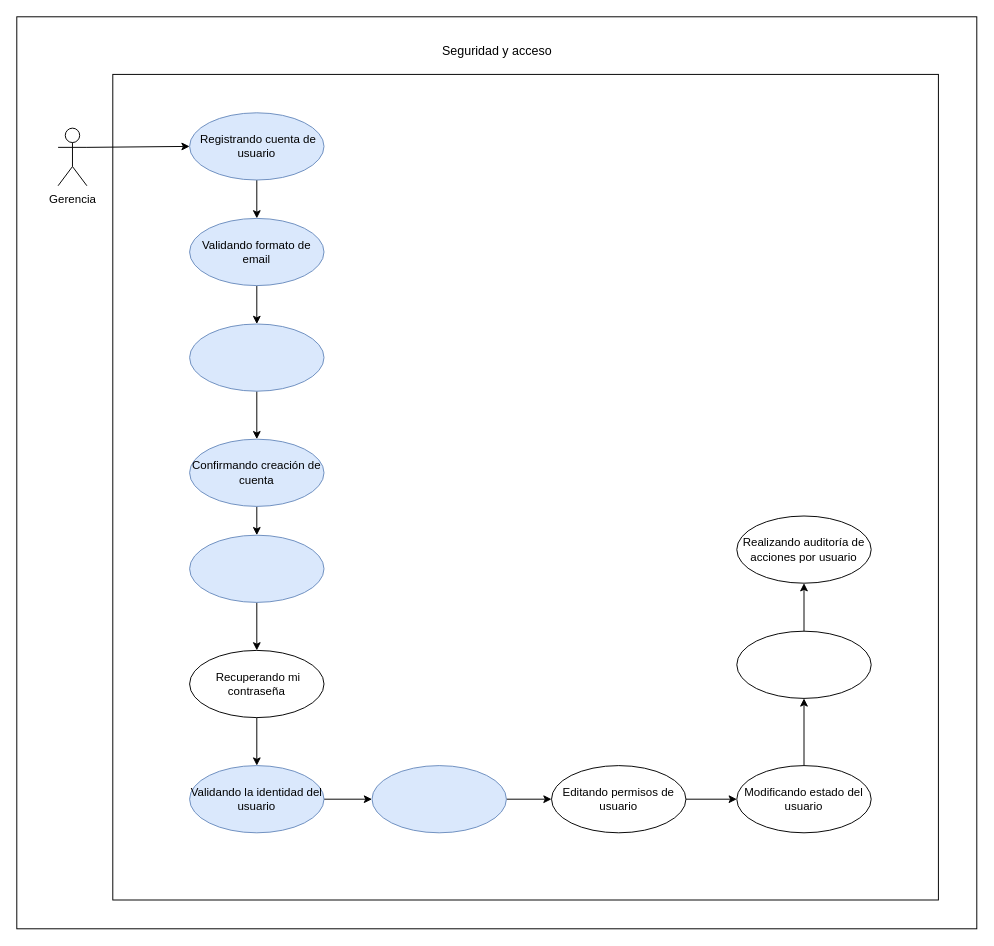
Some shapes in this 994 by 946 pixel diagram are drawn without their labels. The box of each missing label's shape, as (x1, y1, x2, y2) in pixels:
Asignando rol a usuario: (189, 323, 324, 391)
Asignando roles activos: (371, 765, 506, 833)
Desactivando usuarios: (736, 630, 871, 698)
Iniciando sesión: (189, 534, 324, 602)
